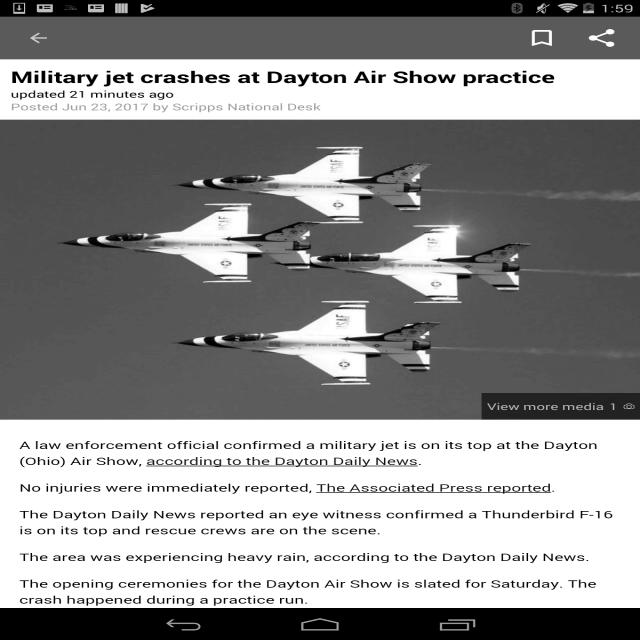ImageButton: (9, 17, 68, 59)
ImageView: (0, 120, 640, 420), (624, 396, 634, 416)
TextView: (11, 66, 629, 88), (11, 100, 629, 113), (11, 88, 174, 100), (512, 22, 572, 54), (572, 22, 631, 54), (487, 400, 604, 413), (604, 400, 623, 413)
